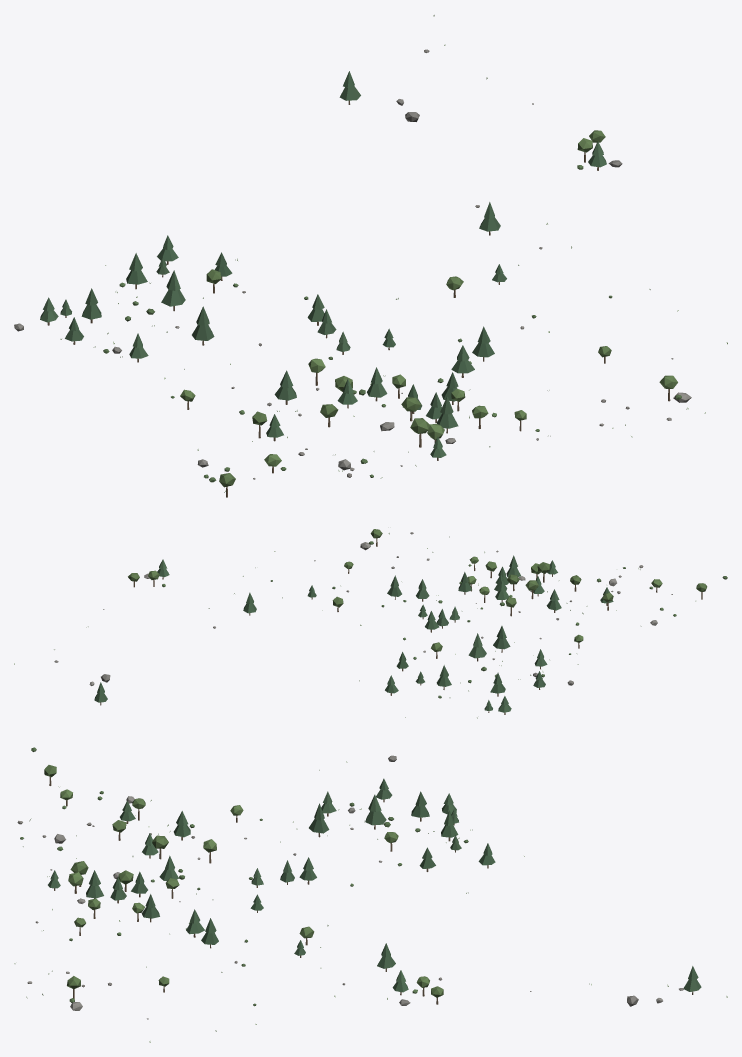
File: arch_land_scatter_c17_18_lod1.glb
3 renders of one model, top to bottom at view 1: azimuth 30°, elevation 25°; view 2: azimuth 150°, elevation 25°; view 3: azimuth 270°, elevation 25°, orthographic. The views are drawn at different scales.
Parts seen in each view (by area): view 1: arch_land_scatter_c17_18_lod1; view 2: arch_land_scatter_c17_18_lod1; view 3: arch_land_scatter_c17_18_lod1.
Boxes of the visible parts, box(x1,y1,x2,y2) form: arch_land_scatter_c17_18_lod1: box(14, 15, 727, 497); arch_land_scatter_c17_18_lod1: box(14, 529, 727, 718); arch_land_scatter_c17_18_lod1: box(14, 747, 727, 1042).
Bounding box in the file's own units: 222 × 33.11 × 253.
